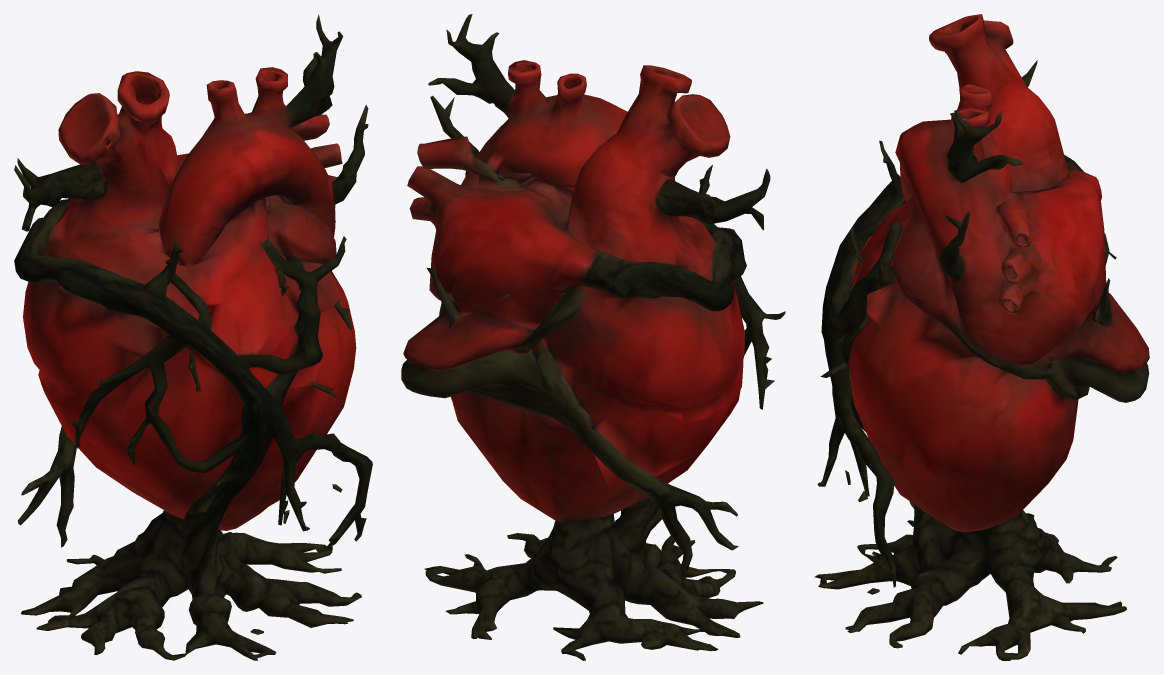
The model's file is heart.glb.
The picture shows the model from 3 angles, left to right: view 1: azimuth 30°, elevation 25°; view 2: azimuth 150°, elevation 25°; view 3: azimuth 270°, elevation 25°; orthographic projection.
Parts seen in each view (by area): view 1: geometry_0; view 2: geometry_0; view 3: geometry_0.
Part boxes in pixels (left/top/right/bottom): geometry_0: left=14, top=14, right=372, bottom=660; geometry_0: left=401, top=14, right=785, bottom=660; geometry_0: left=814, top=14, right=1149, bottom=660.
Size of the model in its own units: 0.6574 by 0.9978 by 0.5521.
Materials: 1 (1 with a texture image).
